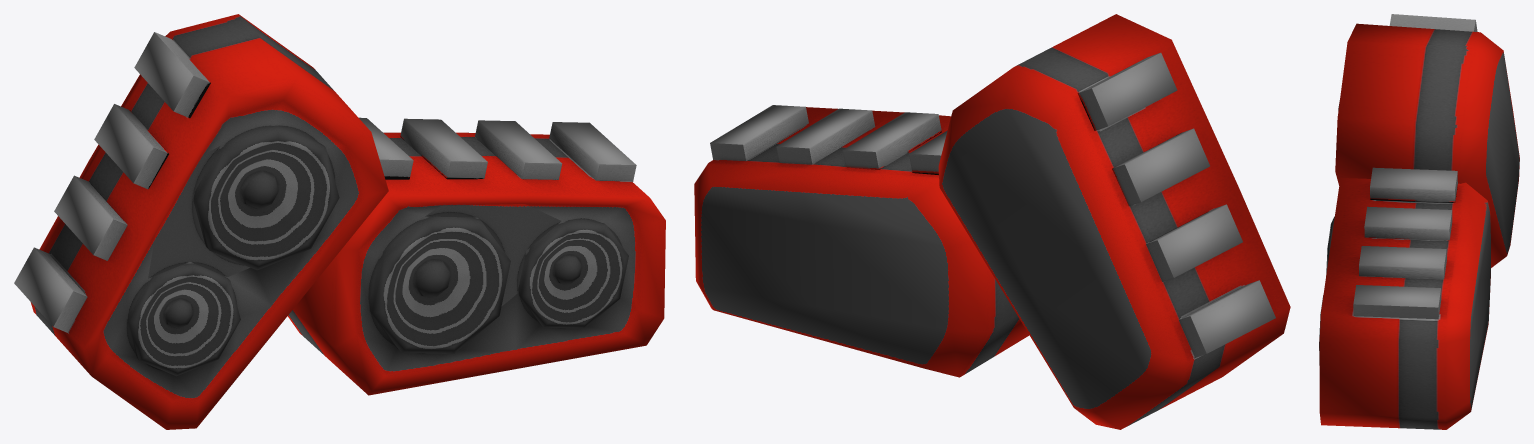
The model's file is ld36-accessories-speakers.fbx.
3 views of the same model, side by side, from view 1: azimuth 30°, elevation 25°; view 2: azimuth 150°, elevation 25°; view 3: azimuth 270°, elevation 25° (orthographic). The views are drawn at different scales.
Visible parts, largest first — view 1: GameBox-Speakers; view 2: GameBox-Speakers; view 3: GameBox-Speakers.
Part boxes in pixels (x1,y1,x2,y2): GameBox-Speakers: (14, 14, 665, 429); GameBox-Speakers: (694, 14, 1290, 429); GameBox-Speakers: (1319, 14, 1519, 429).
Size of the model in its own units: 325 by 184 by 130.
